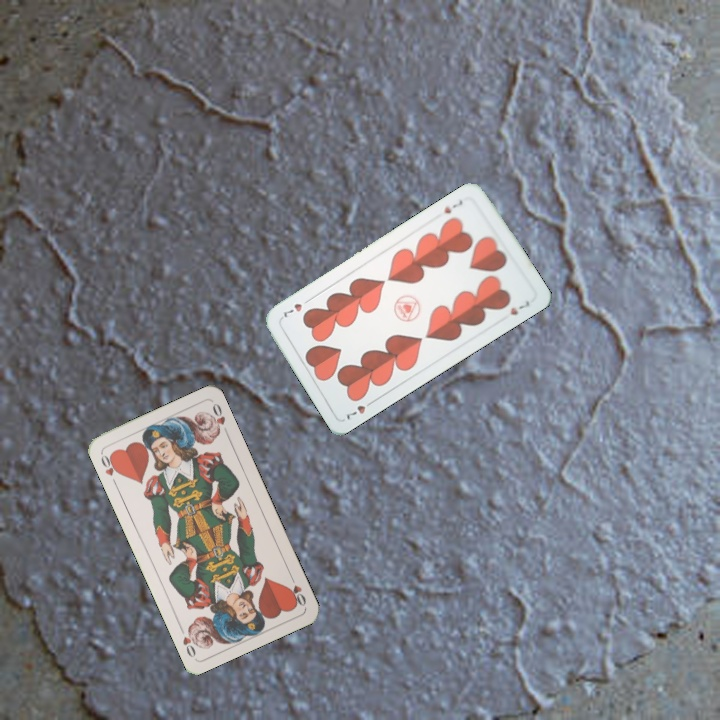H7: (340, 396, 377, 423), (440, 196, 465, 216)
HO: (97, 449, 122, 488), (285, 571, 309, 609)
